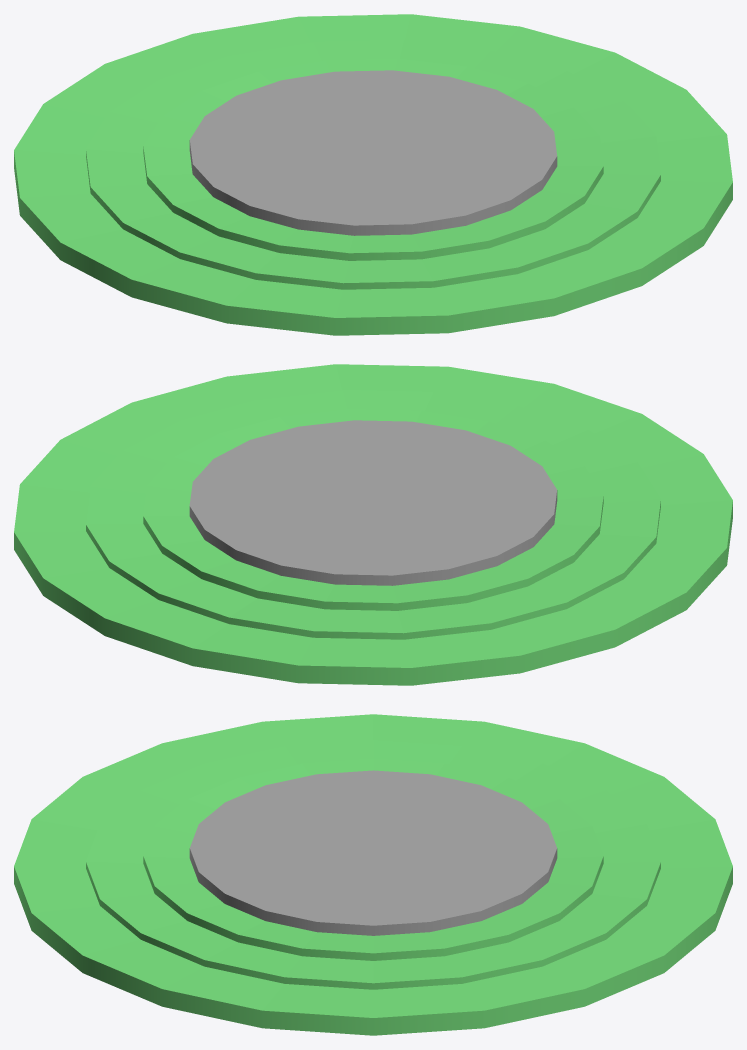
The model's file is obj_Plate_rotate.fbx.
3 renders of one model, top to bottom at view 1: azimuth 30°, elevation 25°; view 2: azimuth 150°, elevation 25°; view 3: azimuth 270°, elevation 25°, orthographic.
Visible parts, largest first — view 1: plate_rotate_2, plate_rotate_1, plate_rotate_3, plate_rotate_4; view 2: plate_rotate_2, plate_rotate_1, plate_rotate_3, plate_rotate_4; view 3: plate_rotate_2, plate_rotate_1, plate_rotate_3, plate_rotate_4.
Boxes of the visible parts, x1=… form: plate_rotate_2: x1=14, y1=14, x2=732, y2=335; plate_rotate_1: x1=189, y1=70, x2=557, y2=235; plate_rotate_3: x1=86, y1=40, x2=660, y2=289; plate_rotate_4: x1=143, y1=58, x2=603, y2=260; plate_rotate_2: x1=14, y1=364, x2=732, y2=685; plate_rotate_1: x1=189, y1=420, x2=557, y2=585; plate_rotate_3: x1=86, y1=390, x2=660, y2=639; plate_rotate_4: x1=143, y1=408, x2=603, y2=610; plate_rotate_2: x1=14, y1=714, x2=732, y2=1035; plate_rotate_1: x1=189, y1=770, x2=557, y2=935; plate_rotate_3: x1=86, y1=740, x2=660, y2=989; plate_rotate_4: x1=143, y1=759, x2=603, y2=960.
Bounding box in the file's own units: 1.53 × 0.0838 × 1.53.
